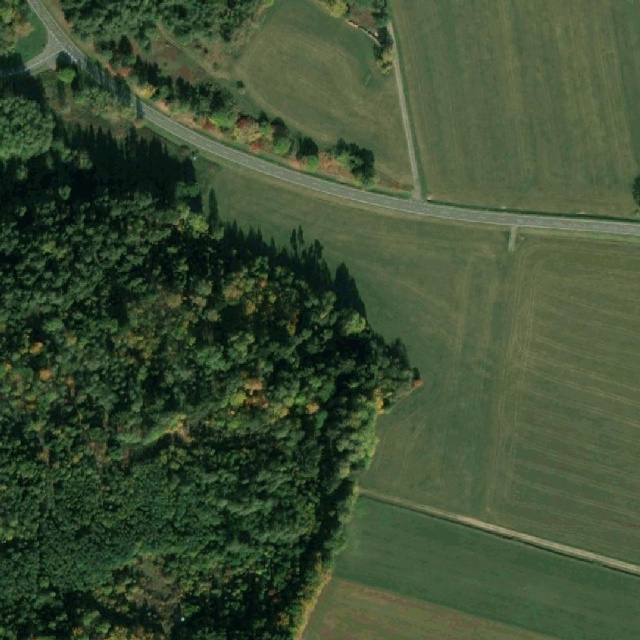vegetation: (0, 66, 423, 640), (58, 0, 381, 193), (322, 0, 396, 72), (0, 0, 39, 68)
